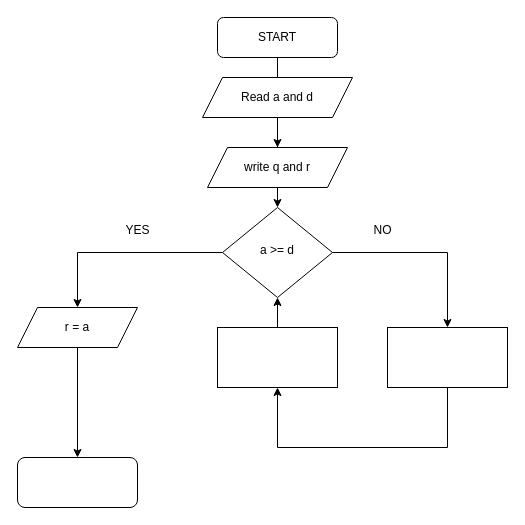
This 525x525 diagram has some shape labels left out. The box of each missing label's shape, as (x1, y1, x2, y2) in pixels:
a = a - d: (386, 326, 508, 388)
END: (16, 456, 138, 508)
q++: (216, 326, 338, 388)
